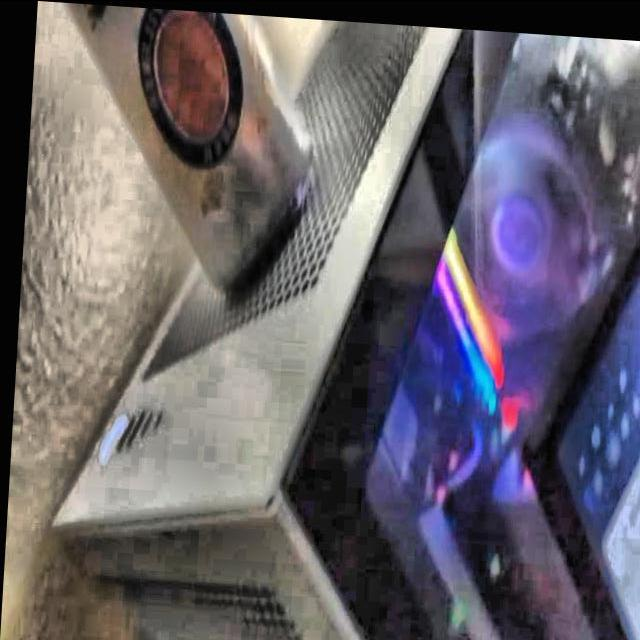Aluminum Can: (32, 1, 314, 304)
